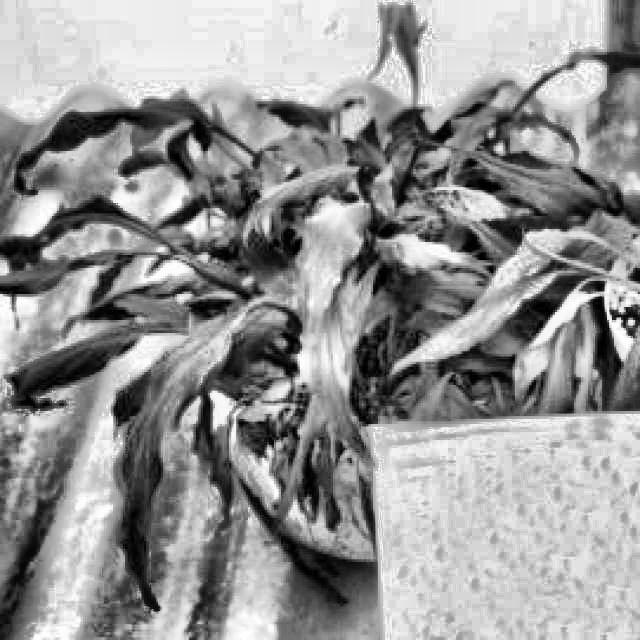plants: (0, 72, 639, 561), (240, 377, 376, 532), (15, 336, 164, 424), (514, 285, 610, 398)
